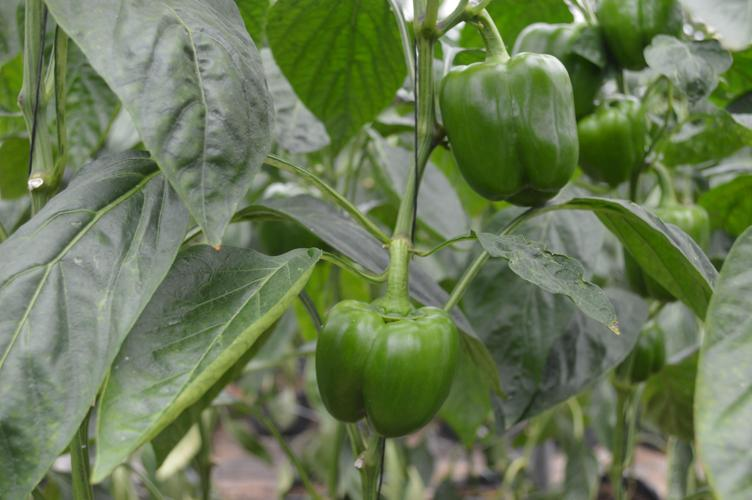BellPepper: (439, 54, 579, 204), (317, 303, 454, 435), (516, 21, 601, 105), (571, 94, 644, 184), (598, 3, 665, 70)
